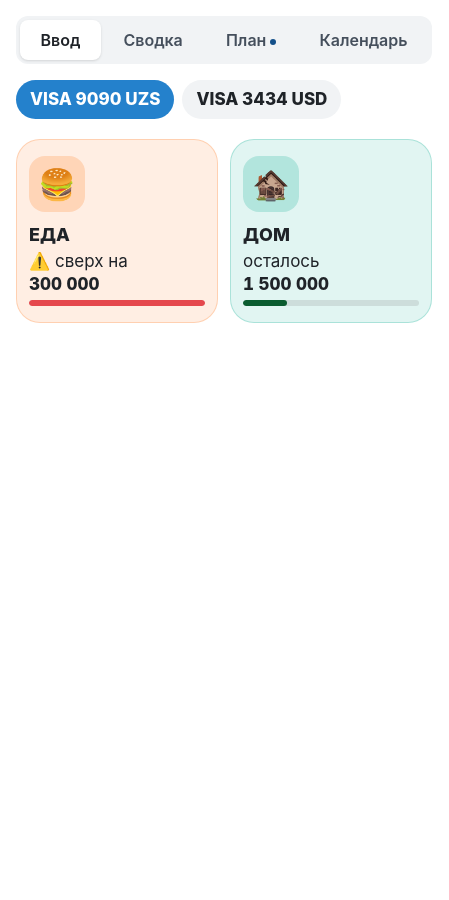
Scenario: App › marks unsaved plan edits and offers them again
Expected: the picture named "есть несохранённые правки" is shown, [270, 39, 276, 45]
Click the tab "План".
click(251, 40)  # box [205, 20, 297, 60]
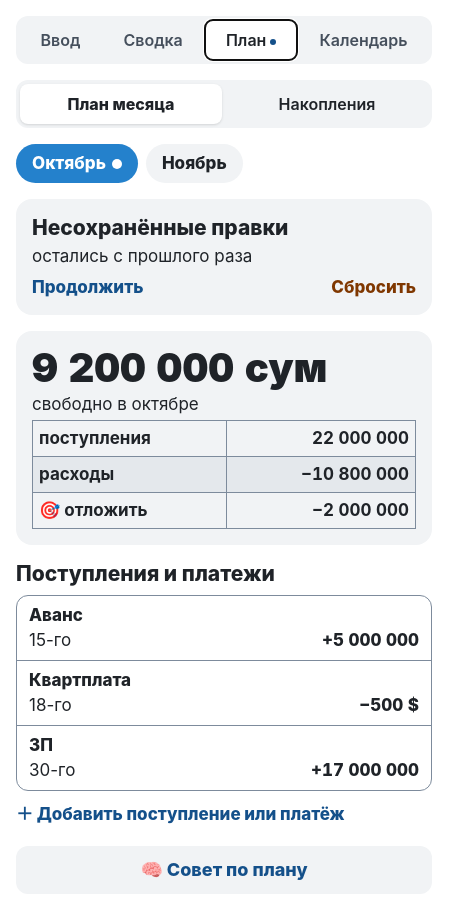
Expected: the text "Несохранённые правки" is shown, [32, 215, 288, 240]
